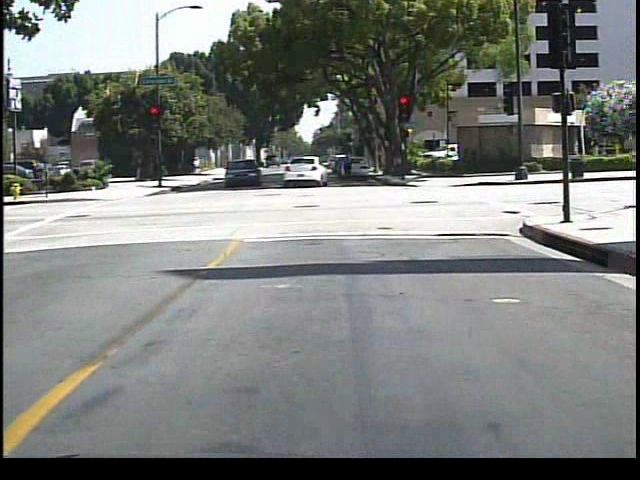person: (338, 146, 356, 185)
